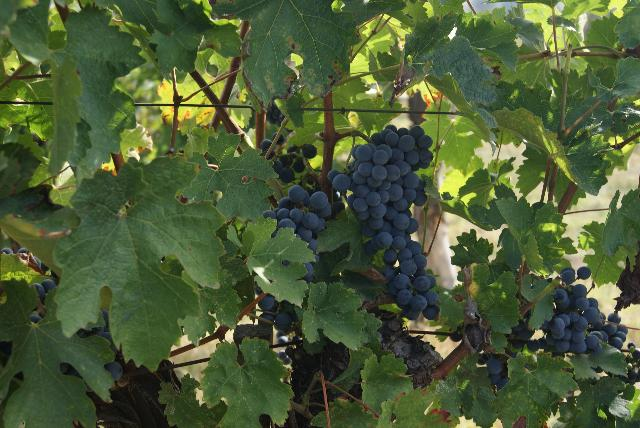grapes: (329, 125, 440, 320), (511, 284, 626, 356), (262, 185, 331, 254), (561, 268, 589, 282), (304, 262, 314, 282)
